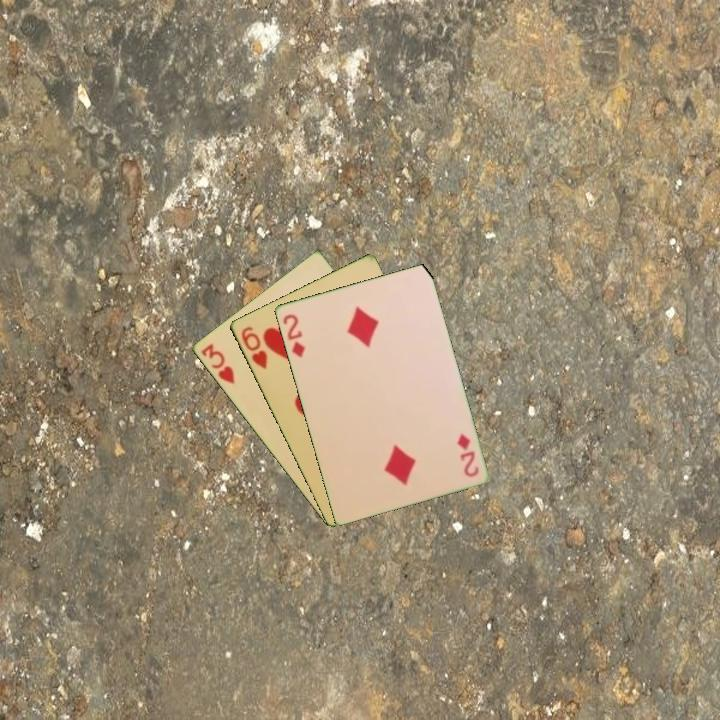2d: (279, 310, 308, 360), (453, 430, 481, 480)
3h: (197, 340, 237, 387)
6h: (237, 323, 270, 372)
